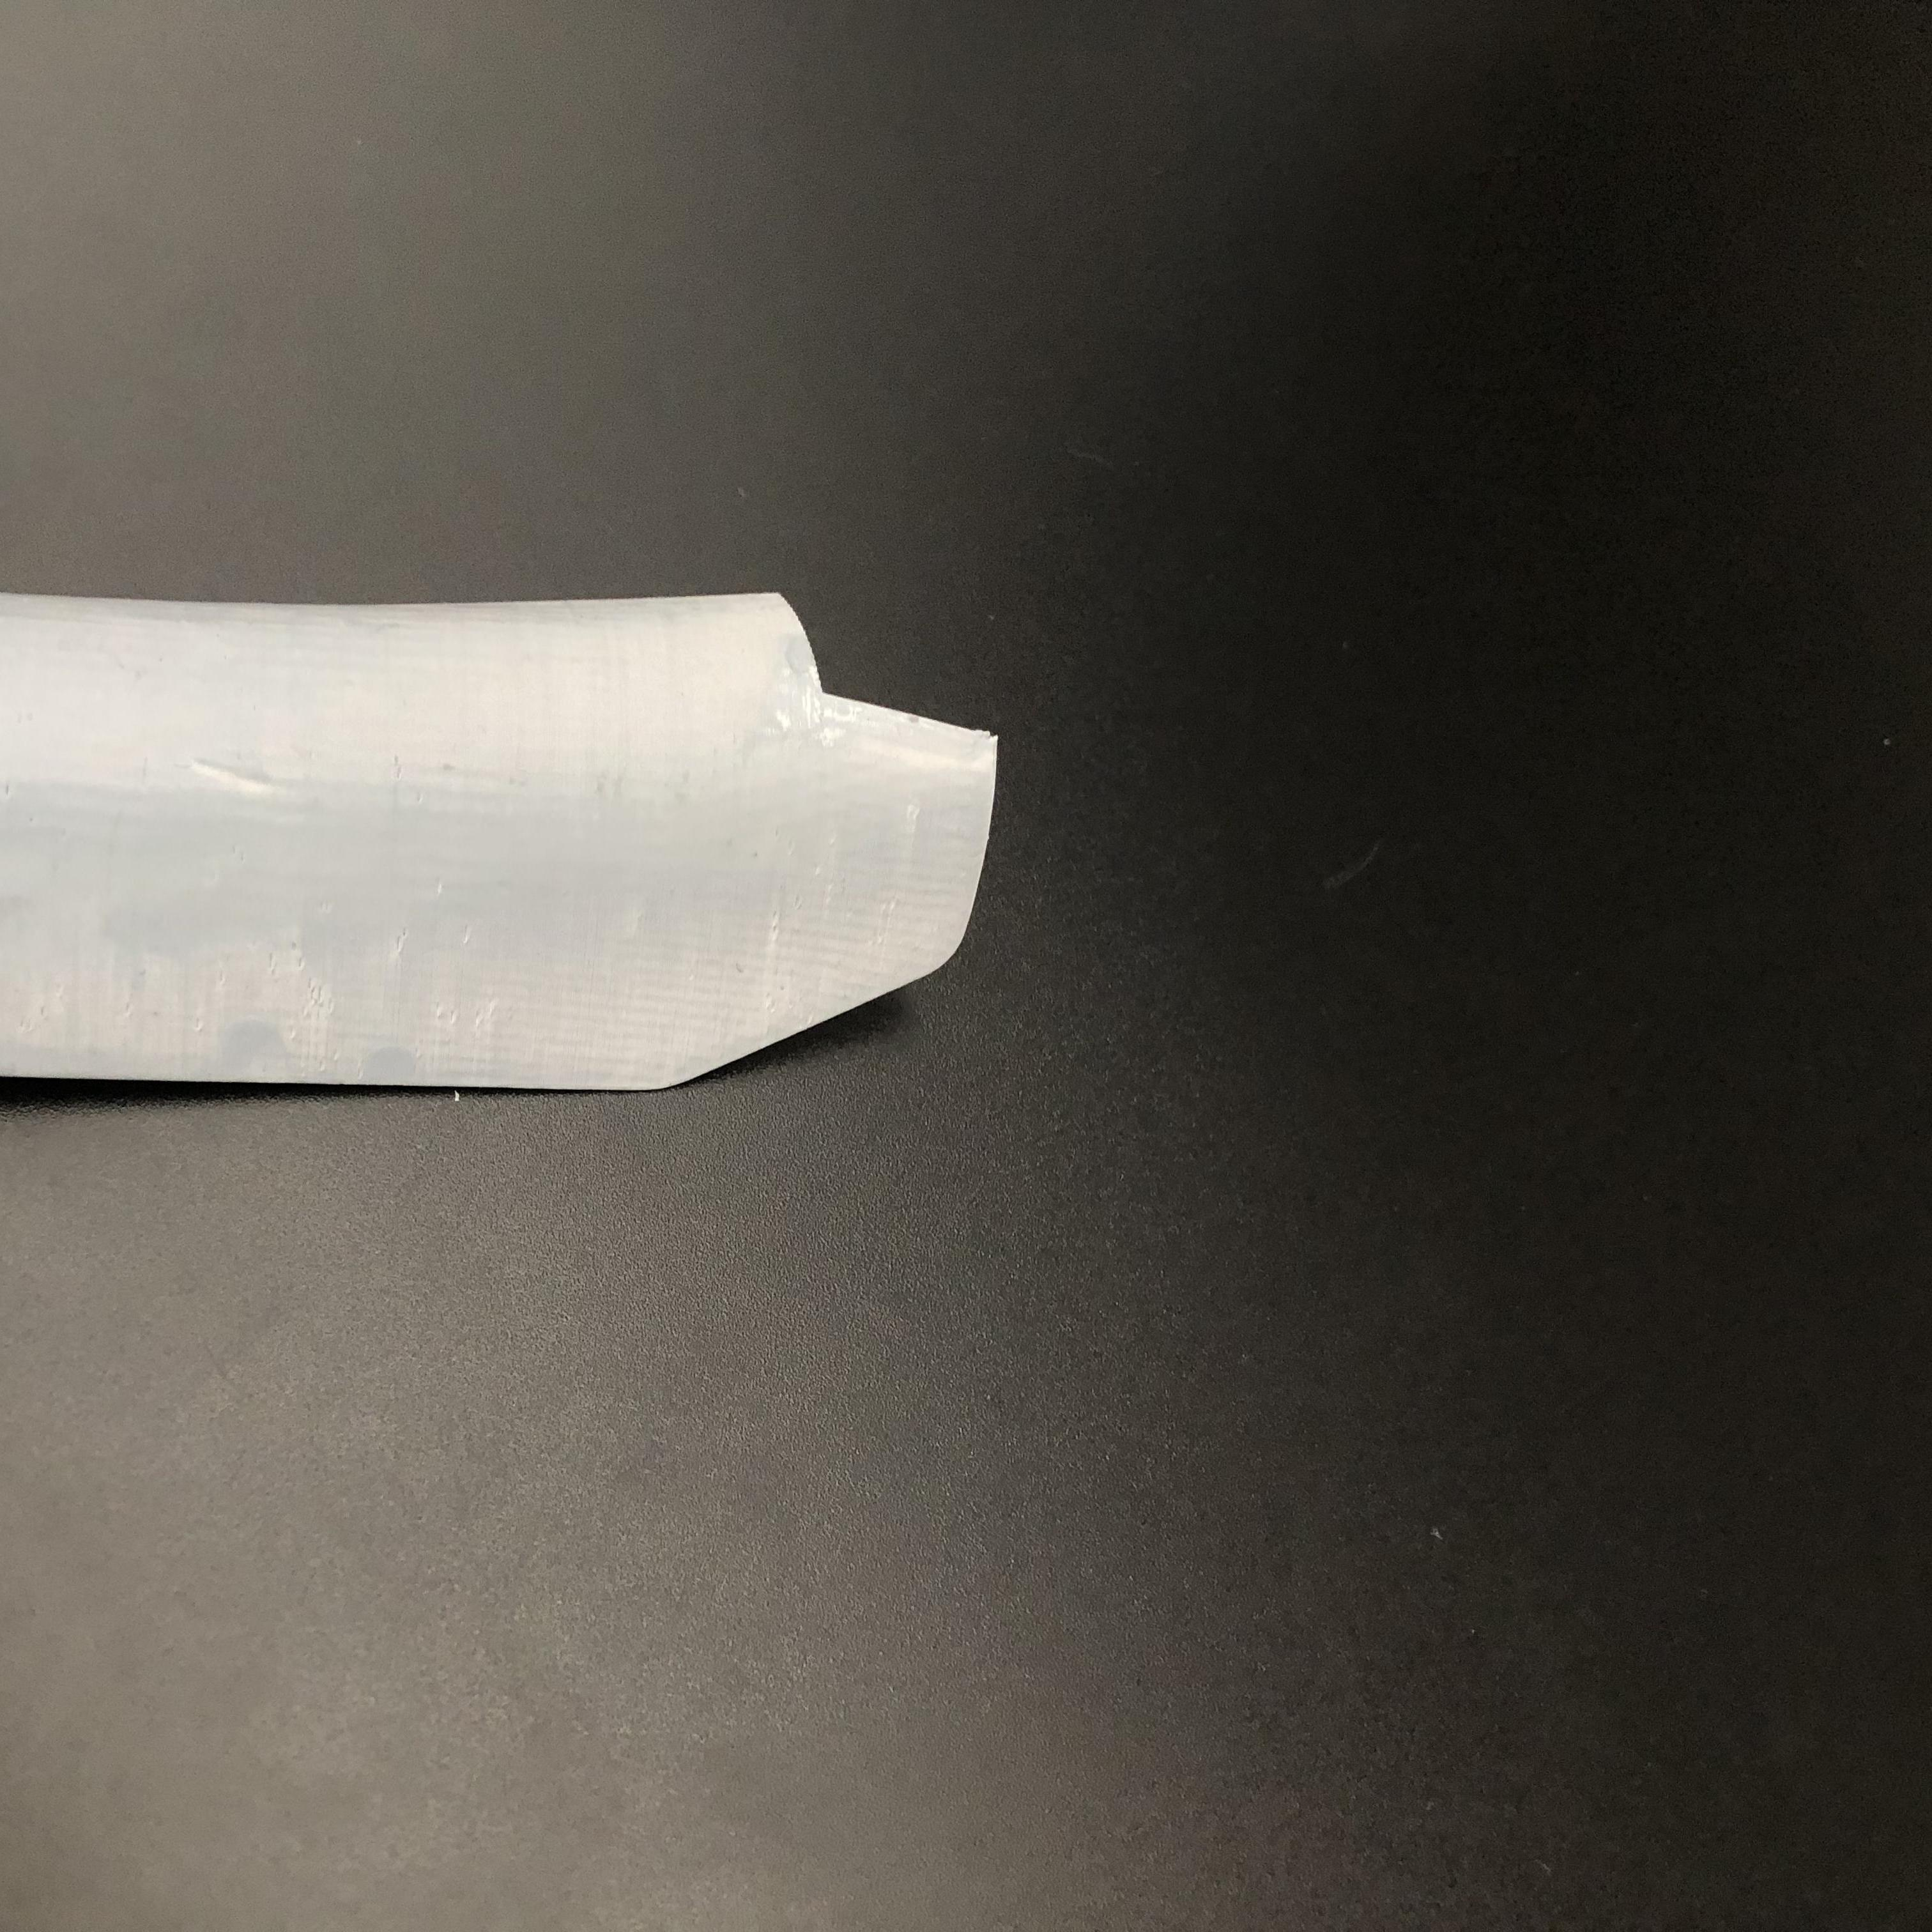fracture: (780, 580, 993, 750)
